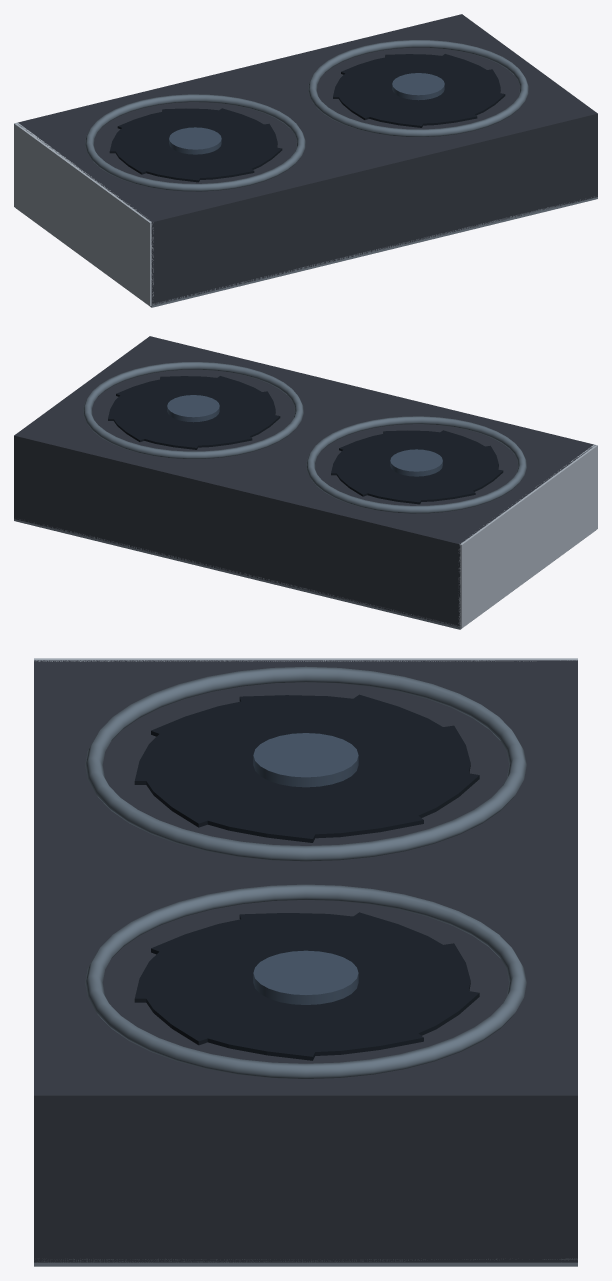
The model's file is retail-msi-geforce-rtx-3060-ventus-2x-8g-oc.glb.
The picture shows the model from 3 angles, top to bottom: view 1: azimuth 30°, elevation 25°; view 2: azimuth 150°, elevation 25°; view 3: azimuth 270°, elevation 25°; orthographic projection. The views are drawn at different scales.
Parts seen in each view (by area): view 1: Cooler shroud, Cooler blade (×18), Bracket, Fan rim (×2), Fan hub (×2), Backplate; view 2: Cooler shroud, Cooler blade (×18), Bracket, Fan rim (×2), Fan hub (×2), Backplate; view 3: Cooler shroud, Cooler blade (×18), Fan rim (×2), Fan hub (×2), Backplate, Bracket.
Boxes of the visible parts, bbox=[...] form: Cooler shroud: bbox=[18, 14, 597, 305]; Cooler blade (×18): bbox=[109, 54, 505, 182]; Bracket: bbox=[14, 122, 153, 306]; Fan rim (×2): bbox=[85, 40, 528, 191]; Fan hub (×2): bbox=[169, 73, 444, 154]; Backplate: bbox=[16, 196, 597, 307]; Cooler shroud: bbox=[14, 336, 595, 627]; Cooler blade (×18): bbox=[108, 376, 503, 504]; Bracket: bbox=[458, 444, 597, 628]; Fan rim (×2): bbox=[83, 362, 526, 513]; Fan hub (×2): bbox=[167, 395, 442, 476]; Backplate: bbox=[14, 518, 595, 629]; Cooler shroud: bbox=[34, 660, 577, 1262]; Cooler blade (×18): bbox=[134, 694, 479, 1060]; Fan rim (×2): bbox=[85, 666, 526, 1078]; Fan hub (×2): bbox=[253, 733, 358, 1004]; Backplate: bbox=[34, 1258, 577, 1266]; Bracket: bbox=[34, 658, 577, 661].
Size of the model in its own units: 0.236 by 0.0465 by 0.124.
